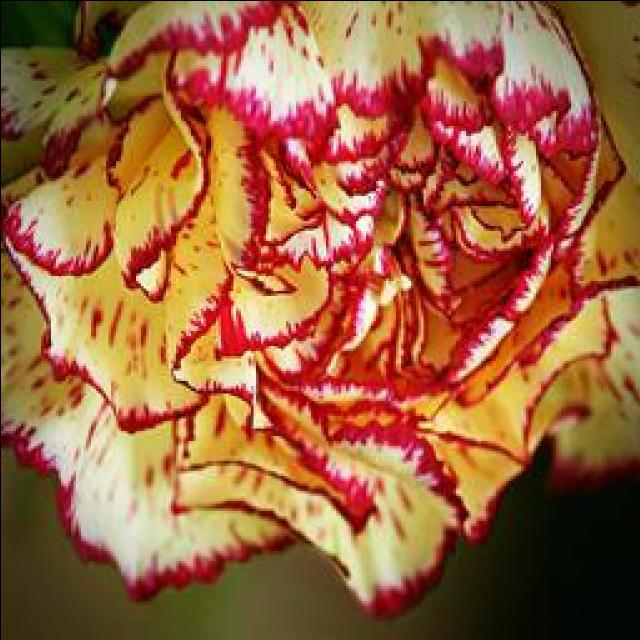carnation: (0, 0, 630, 596)
